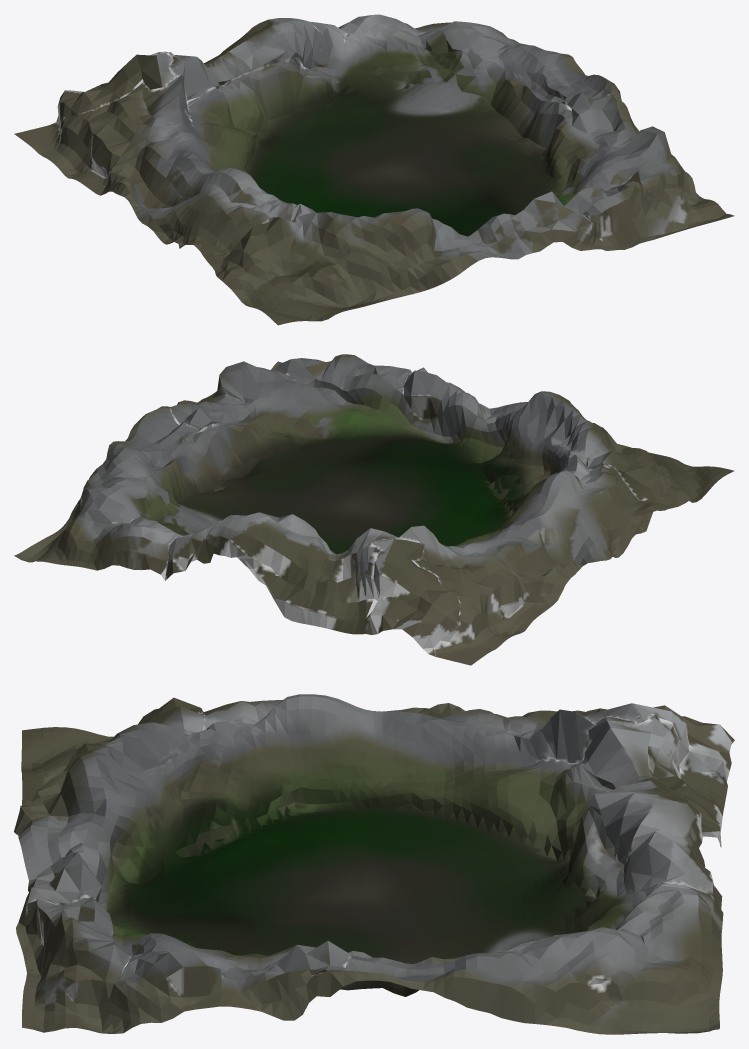
File: mountains.glb
The picture shows the model from 3 angles, top to bottom: view 1: azimuth 30°, elevation 25°; view 2: azimuth 150°, elevation 25°; view 3: azimuth 270°, elevation 25°; orthographic projection. The views are drawn at different scales.
Parts seen in each view (by area): view 1: Plane; view 2: Plane; view 3: Plane.
Boxes of the visible parts, x1,y1,x2,y2 form: Plane: (14,14,734,325); Plane: (14,354,734,665); Plane: (14,694,734,1034).
Size of the model in its own units: 20.54 by 3.71 by 20.68.
1 material, 1 textured.
